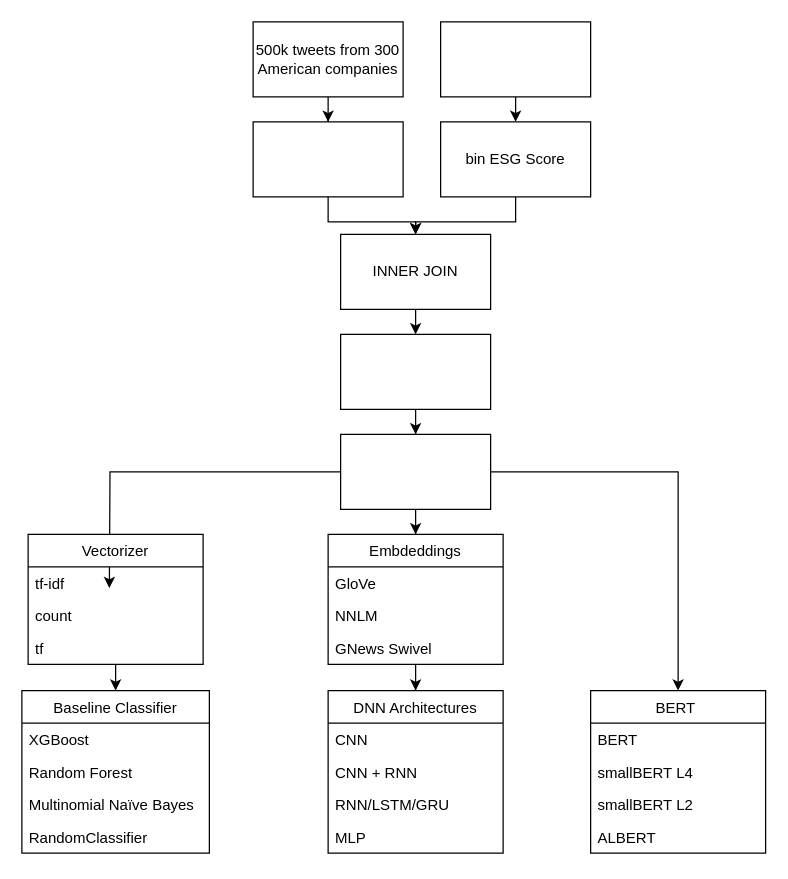
The diagram is 788 pixels wide and 879 high, and some of its shapes have lost their labels. The centre of each missing label's shape, as x and y in pixels:
"EDA" belongs at (415,471).
"Split into 50 tweets per row" belongs at (415,371).
"Tokenize Tweets" belongs at (327,159).
"Yahoo finance ESG data" belongs at (515,59).
